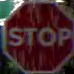Stop: (4, 1, 73, 73)
